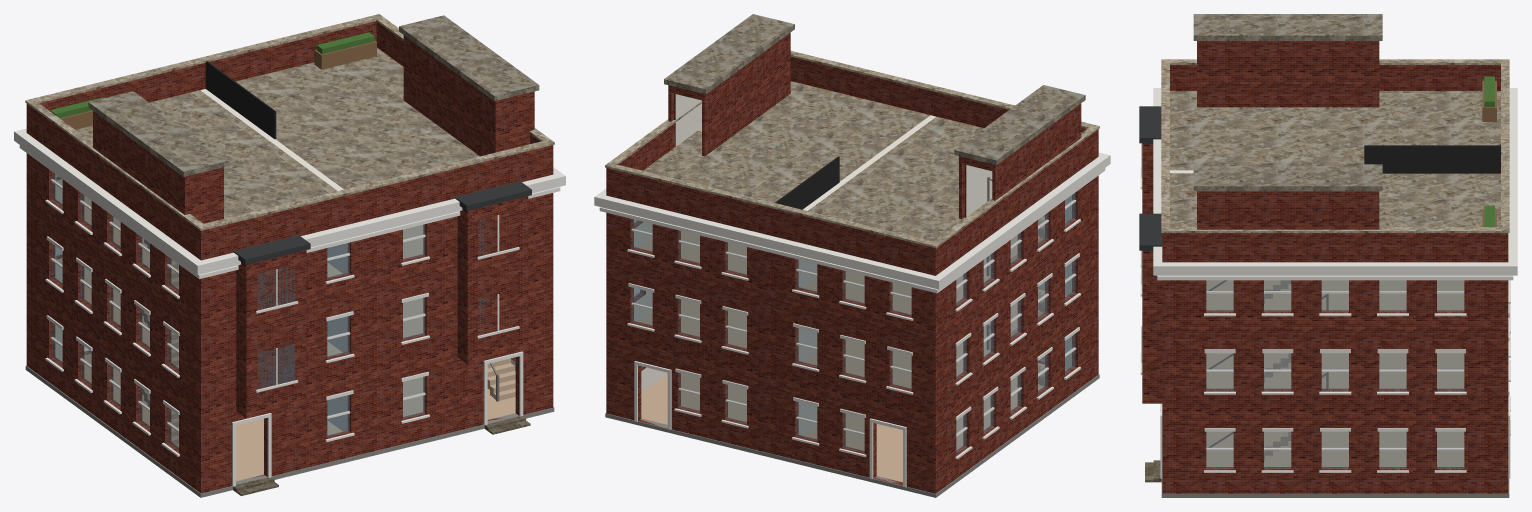
Rendered from ns-rowhouses.towns-v1.lod0.glb.
3 views of the same model, side by side, from view 1: azimuth 30°, elevation 25°; view 2: azimuth 150°, elevation 25°; view 3: azimuth 270°, elevation 25° (orthographic). The views are drawn at different scales.
Visible parts, largest first — view 1: ns-rowhouses; view 2: ns-rowhouses; view 3: ns-rowhouses.
Part boxes in pixels (x1,y1,x2,y2): ns-rowhouses: [14, 14, 565, 497]; ns-rowhouses: [594, 14, 1110, 497]; ns-rowhouses: [1139, 14, 1517, 497].
Bounding box in the file's own units: 14.64 × 11.95 × 13.12.
Materials: 6 (2 with a texture image).
